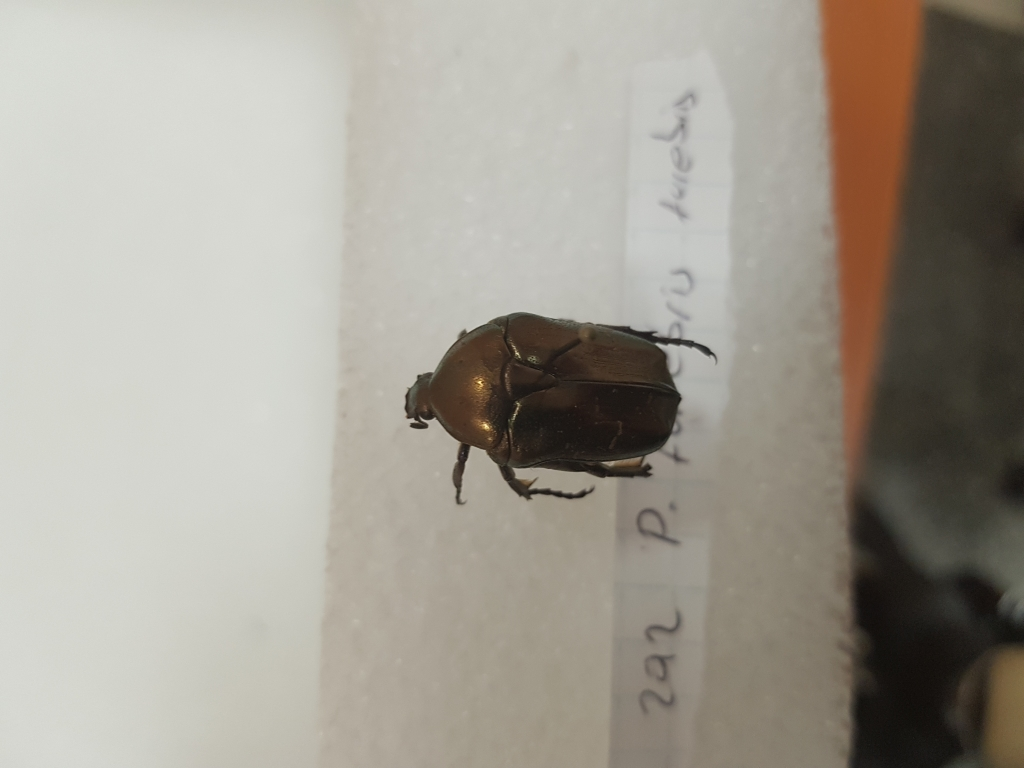Protaetia_funebris_funebris: (392, 286, 739, 510)
